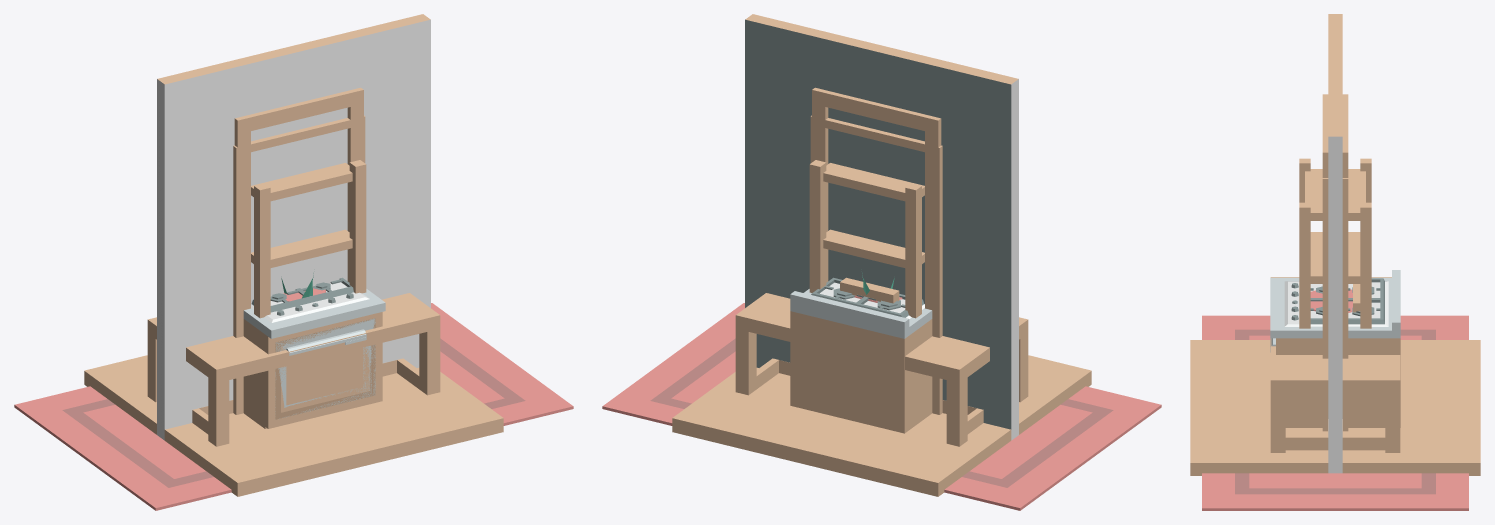
The model's file is interior.glb.
3 views of the same model, side by side, from view 1: azimuth 30°, elevation 25°; view 2: azimuth 150°, elevation 25°; view 3: azimuth 270°, elevation 25° (orthographic). The views are drawn at different scales.
Visible parts, largest first — view 1: wall(Clone), wallDoorway(Clone), floorFull(Clone), rugRectangle(Clone), Mesh wallWindow, table(Clone), door (×2), bookcaseOpen(Clone), Mesh kitchenCabinet, Mesh kitchenStove; view 2: wall(Clone), wallDoorway(Clone), floorFull(Clone), rugRectangle(Clone), Mesh kitchenCabinet, Mesh wallWindow, table(Clone), bookcaseOpen(Clone), Mesh kitchenStove, chair(Clone); view 3: floorFull(Clone), rugRectangle(Clone), table(Clone), wall(Clone), bookcaseOpen(Clone), Mesh kitchenCabinet, Mesh kitchenStove, wallDoorway(Clone), Mesh wallWindow.
Part boxes in pixels (bbox=[...]): wall(Clone): bbox=[157, 14, 430, 440]; wallDoorway(Clone): bbox=[164, 20, 430, 429]; floorFull(Clone): bbox=[84, 355, 503, 496]; rugRectangle(Clone): bbox=[14, 303, 573, 510]; Mesh wallWindow: bbox=[164, 20, 430, 429]; table(Clone): bbox=[147, 293, 440, 446]; door (×2): bbox=[275, 318, 375, 419]; bookcaseOpen(Clone): bbox=[251, 160, 366, 318]; Mesh kitchenCabinet: bbox=[243, 289, 385, 428]; Mesh kitchenStove: bbox=[251, 277, 384, 330]; wall(Clone): bbox=[745, 14, 1018, 440]; wallDoorway(Clone): bbox=[745, 19, 1011, 423]; floorFull(Clone): bbox=[672, 355, 1091, 496]; rugRectangle(Clone): bbox=[602, 303, 1161, 510]; Mesh kitchenCabinet: bbox=[790, 289, 932, 433]; Mesh wallWindow: bbox=[745, 20, 1011, 426]; table(Clone): bbox=[735, 293, 1028, 446]; bookcaseOpen(Clone): bbox=[809, 160, 924, 318]; Mesh kitchenStove: bbox=[804, 277, 924, 324]; chair(Clone): bbox=[840, 277, 899, 303]; floorFull(Clone): bbox=[1190, 340, 1480, 475]; rugRectangle(Clone): bbox=[1202, 315, 1468, 510]; table(Clone): bbox=[1270, 277, 1400, 452]; wall(Clone): bbox=[1328, 14, 1342, 473]; bookcaseOpen(Clone): bbox=[1299, 158, 1371, 328]; Mesh kitchenCabinet: bbox=[1270, 270, 1400, 427]; Mesh kitchenStove: bbox=[1270, 277, 1391, 330]; wallDoorway(Clone): bbox=[1322, 178, 1348, 431]; Mesh wallWindow: bbox=[1322, 94, 1348, 177].
Size of the model in its own units: 3.61 by 2.97 by 2.3.
